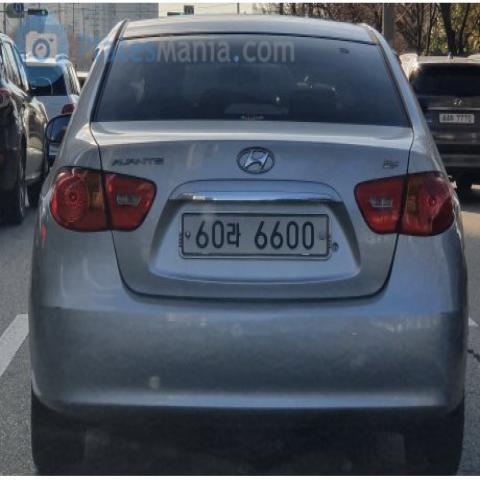LP: (172, 205, 336, 266)
